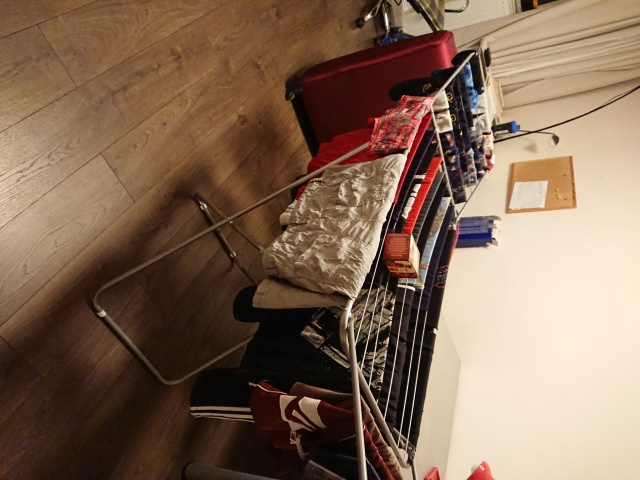Franck Apple Cinnamon Tea 60g: (380, 230, 423, 280)
